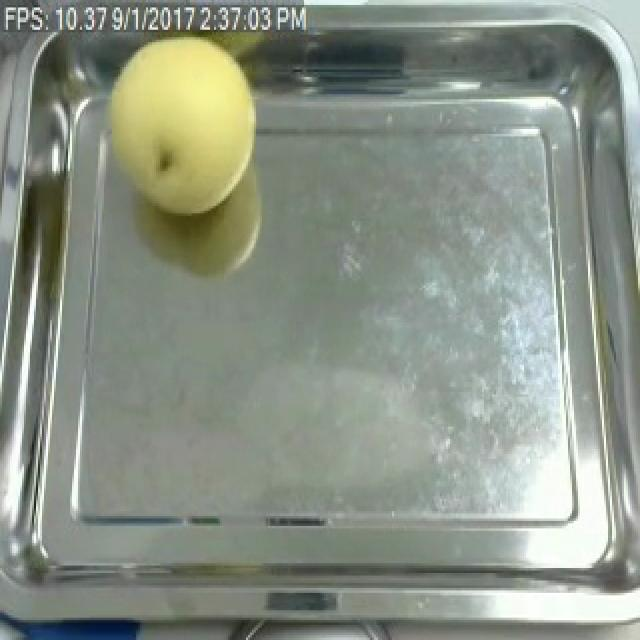Fruit: (72, 25, 268, 228)
